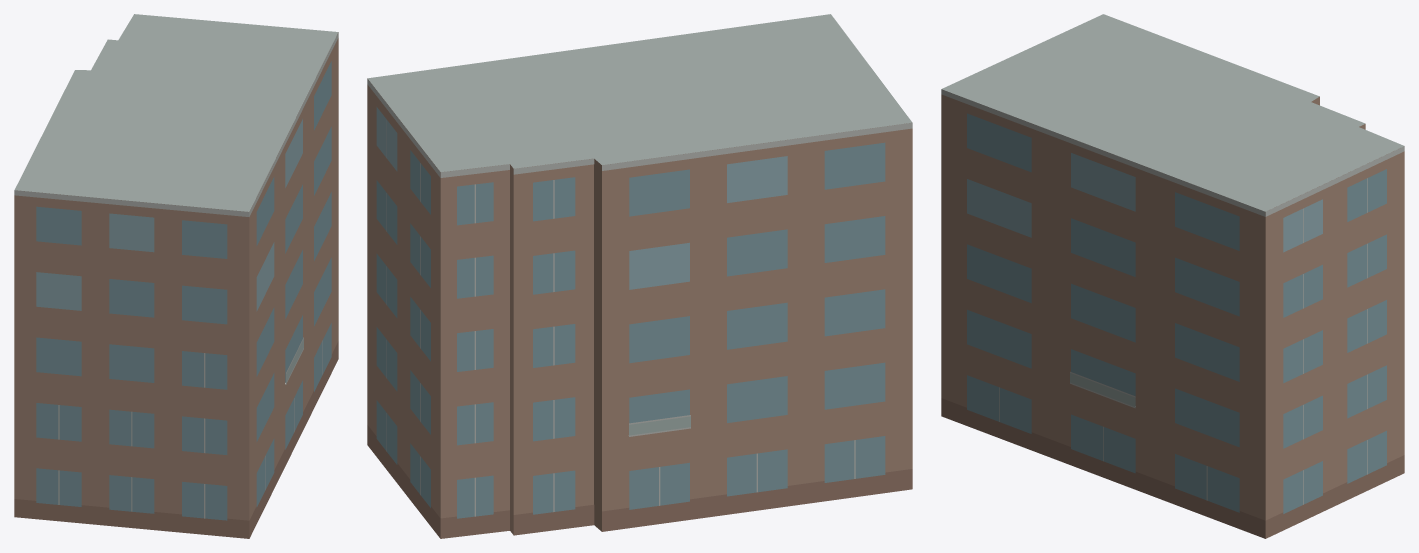
Rendered from survey-upis-33045084.glb.
3 renders of one model, left to right at view 1: azimuth 30°, elevation 25°; view 2: azimuth 150°, elevation 25°; view 3: azimuth 270°, elevation 25°, orthographic. The views are drawn at different scales.
Parts seen in each view (by area): view 1: survey-upis-33045084.tmp; view 2: survey-upis-33045084.tmp; view 3: survey-upis-33045084.tmp.
Part boxes in pixels (left/top/right/bottom): survey-upis-33045084.tmp: left=14, top=14, right=338, bottom=538; survey-upis-33045084.tmp: left=367, top=14, right=912, bottom=538; survey-upis-33045084.tmp: left=941, top=14, right=1404, bottom=538.
Bounding box in the file's own units: 19.78 × 15.25 × 19.59.
